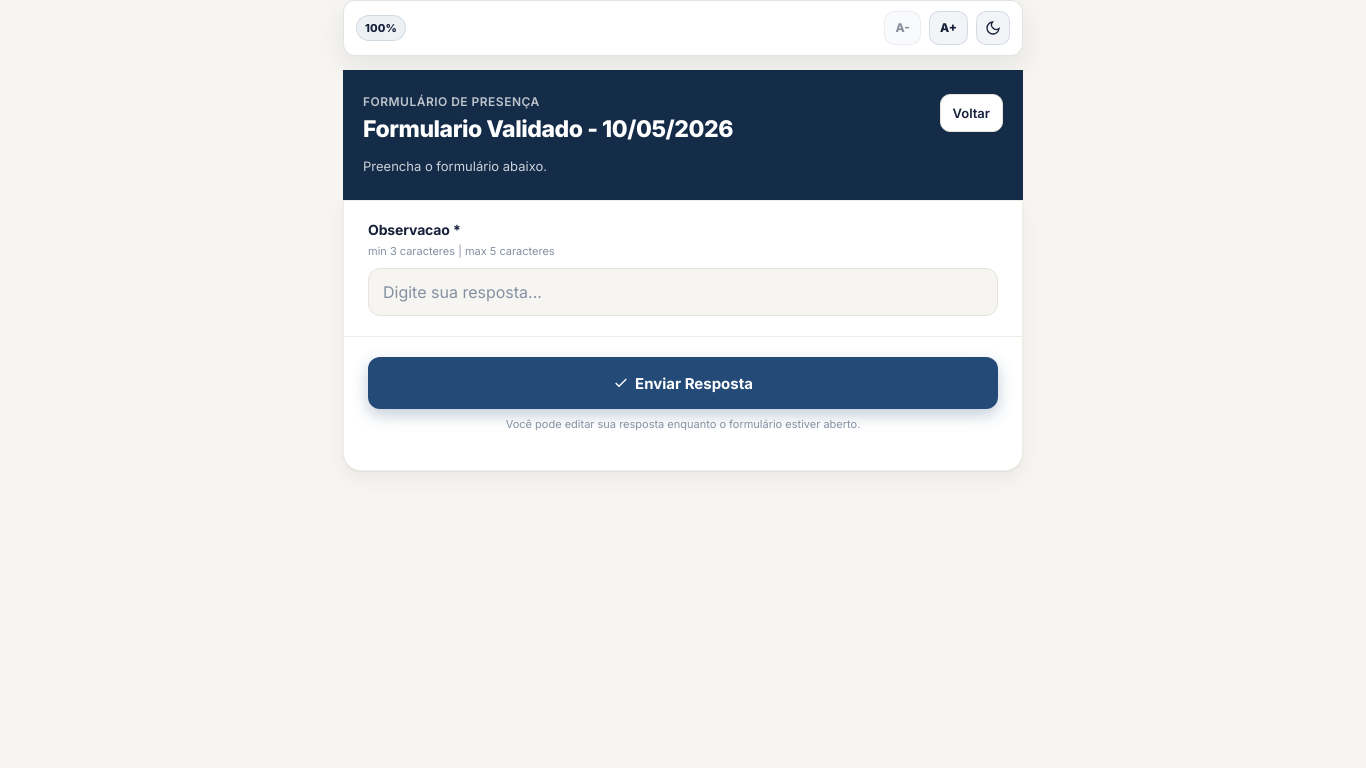
Scenario: PublicFormScreen › bloqueia envio quando a resposta nao respeita a validacao do campo
Type "ab" into the field.
click(683, 292); type("ab")  # box [368, 268, 998, 316]
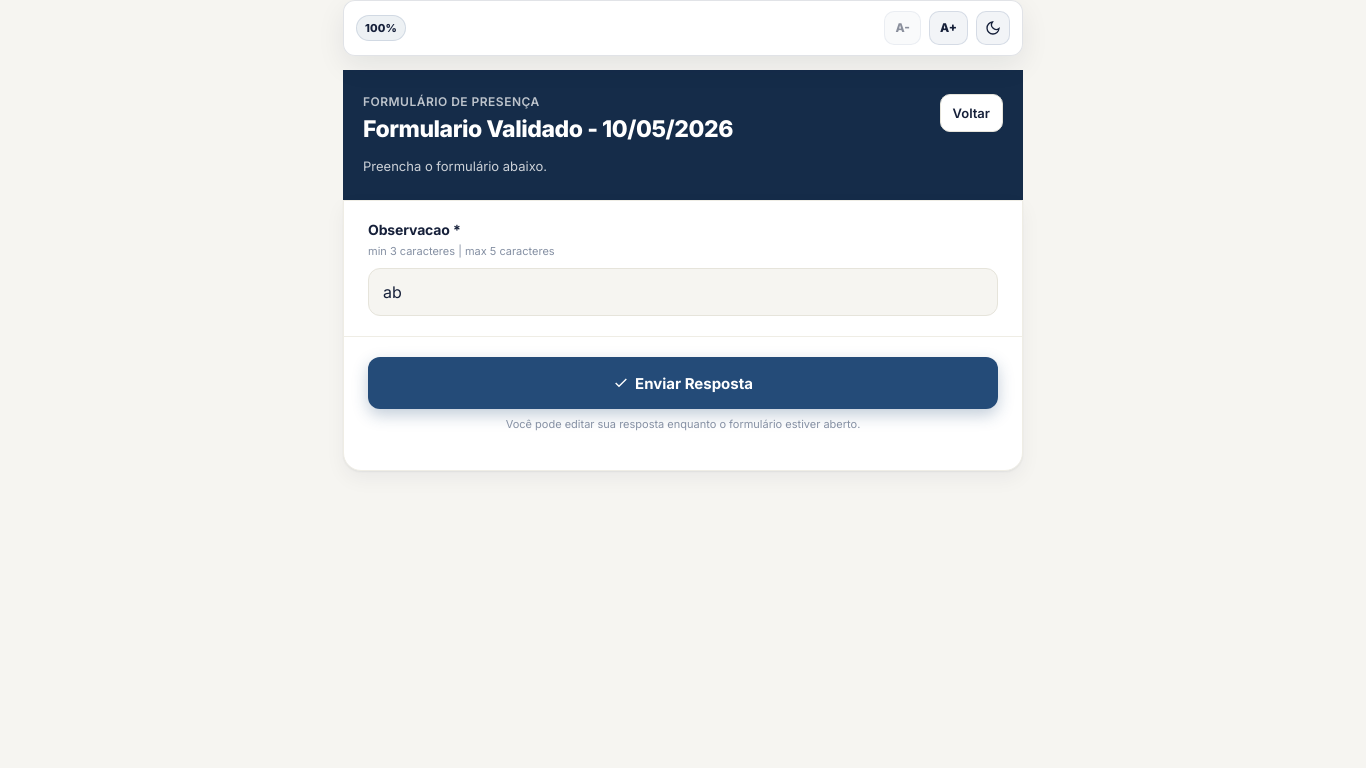
Click the button "Enviar Resposta".
click(683, 383)  # box [368, 357, 998, 409]
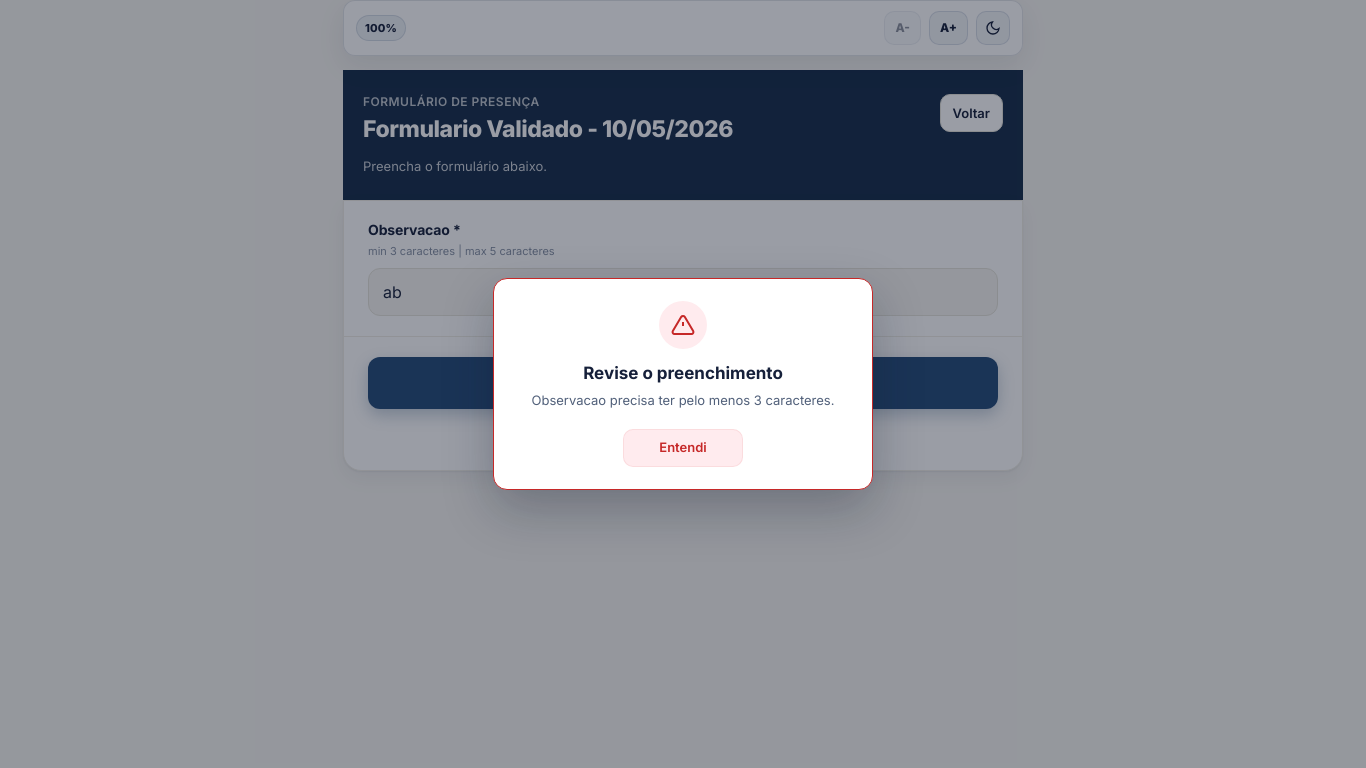
Expected: the dialog "Revise o preenchimento" is shown
Expected: the text "Observacao precisa ter pelo menos 3 caracteres." is shown, [516, 391, 850, 411]
